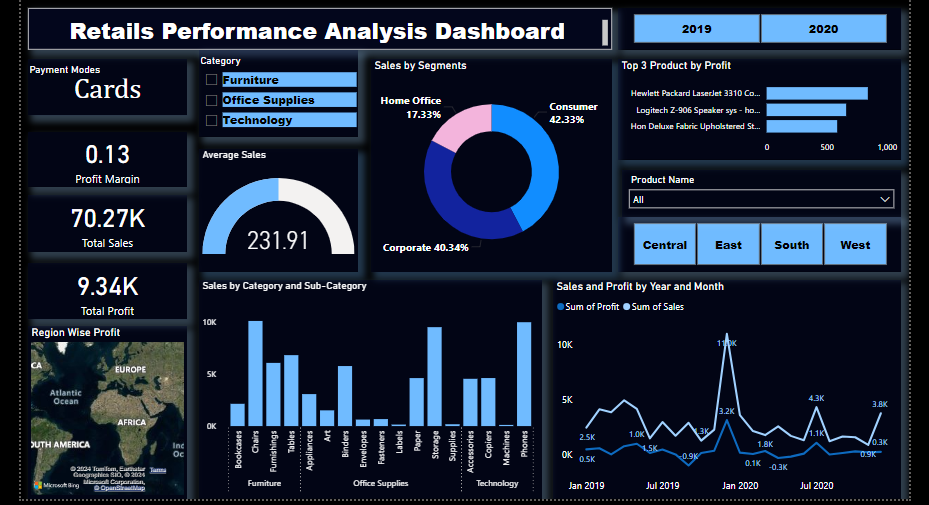

What the dashboard file says about the page in this screenshot:
{"tool":"powerbi","page":{"name":"Page 3","canvas":[1280,720],"ordinal":0},"visuals":[{"type":"textbox","box":[10.1,13,841,60.5],"z":0},{"type":"slicer","fields":{"Values":["Superstore Data.Region"]},"box":[859.7,313.9,407.5,79.2],"z":1000},{"type":"donutChart","title":" Sales by Segments","fields":{"Category":["Superstore Data.Segment"],"Y":["Sum(Superstore Data.Sales)"]},"box":[504,86.4,347,306.7],"z":2000},{"type":"card","fields":{"Values":["Sum(Superstore Data.Sales)"]},"box":[10.1,282.2,229,82.1],"z":3000},{"type":"card","fields":{"Values":["Sum(Superstore Data.Profit)"]},"box":[10.1,380.2,229,80.6],"z":4000},{"type":"card","fields":{"Values":["Superstore Data.Profit Margin"]},"box":[10.1,191.5,229,79.2],"z":5000},{"type":"lineChart","title":"Sales and Profit by Year and Month","fields":{"Category":["Superstore Data.Order Date.Variation.Date Hierarchy.Year","Superstore Data.Order Date.Variation.Date Hierarchy.Month"],"Y":["Sum(Superstore Data.Profit)","Sum(Superstore Data.Sales)"]},"box":[766.1,404.6,501.1,315.4],"z":6000},{"type":"filledMap","title":"Region Wise Profit","fields":{"Category":["Superstore Data.Region"],"Series":["Superstore Data.Profit"]},"box":[10.1,470.9,229,249.1],"z":7000},{"type":"slicer","title":"Category","fields":{"Values":["Superstore Data.Category"]},"box":[256.3,77.8,229,125.3],"z":8000},{"type":"slicer","fields":{"Values":["Superstore Data.Order Date.Variation.Date Hierarchy.Year"]},"box":[859.7,13,407.5,60.5],"z":9000},{"type":"slicer","title":"Payment Modes","fields":{"Values":["Superstore Data.Payment Mode"]},"box":[10.1,89.3,229,80.6],"z":10000},{"type":"lineStackedColumnComboChart","title":" Sales by Category and Sub-Category","fields":{"Category":["Product.Category","Superstore Data.Sub-Category"],"Y":["Sum(Superstore Data.Sales)"]},"box":[256.3,404.6,493.9,315.4],"z":11000},{"type":"clusteredBarChart","title":"Top 3 Product by Profit","fields":{"Category":["Superstore Data.Product Name"],"Y":["Sum(Superstore Data.Profit)"]},"box":[859.7,86.4,407.5,208.8],"z":12000},{"type":"gauge","fields":{"Y":["Superstore Data.Average Sales"]},"box":[256.3,216,229,177.1],"z":13000}]}

Visuals, with their boxes on the page's 1280x720 design canvas (x1, y1, x2, y2). These are canvas units, not pixel positions in the 929x505 screenshot, which may show the page scaled, cropped or inside an application window:
textbox: (10, 13, 851, 74)
slicer - Superstore Data.Region: (860, 314, 1267, 393)
" Sales by Segments" donutChart: (504, 86, 851, 393)
card - Sum(Superstore Data.Sales): (10, 282, 239, 364)
card - Sum(Superstore Data.Profit): (10, 380, 239, 461)
card - Superstore Data.Profit Margin: (10, 192, 239, 271)
"Sales and Profit by Year and Month" lineChart: (766, 405, 1267, 720)
"Region Wise Profit" filledMap: (10, 471, 239, 720)
"Category" slicer: (256, 78, 485, 203)
slicer - Superstore Data.Order Date.Variation.Date Hierarchy.Year: (860, 13, 1267, 74)
"Payment Modes" slicer: (10, 89, 239, 170)
" Sales by Category and Sub-Category" lineStackedColumnComboChart: (256, 405, 750, 720)
"Top 3 Product by Profit" clusteredBarChart: (860, 86, 1267, 295)
gauge - Superstore Data.Average Sales: (256, 216, 485, 393)
